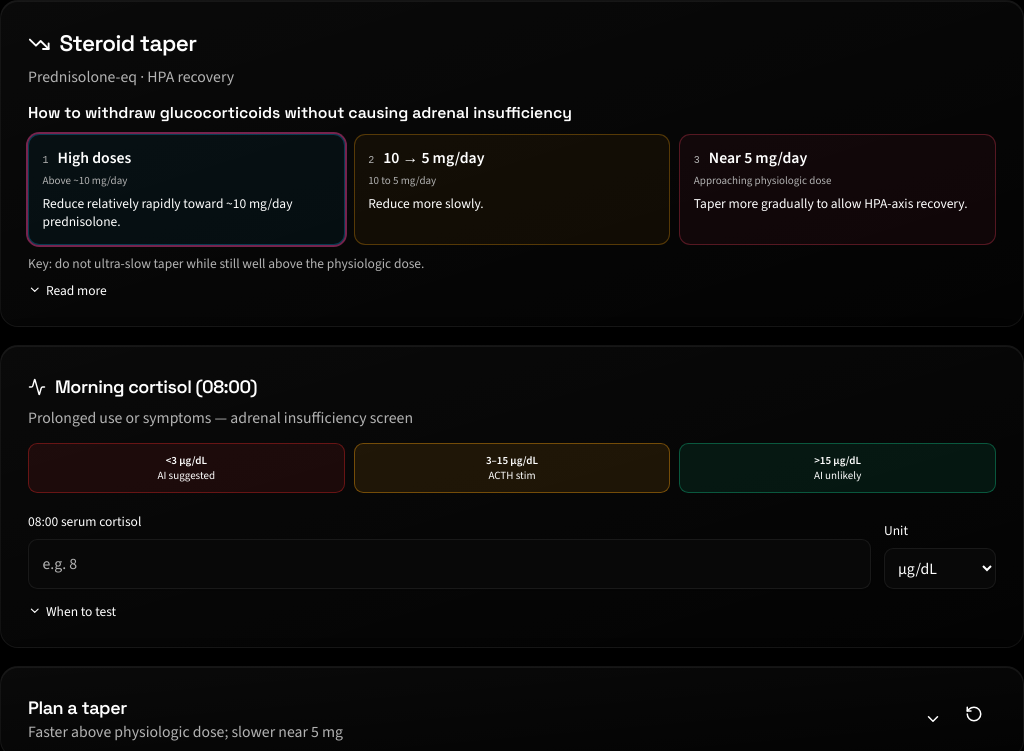
Test: Steroid taper UI (progressive disclosure) › plans a 40 mg prednisolone taper with high-dose then slower steps
Click the button "Plan a taper Faster above physiologic dose; slower near 5 mg". click: (77, 708)
box: [28,694,942,744]
(page scrolled)
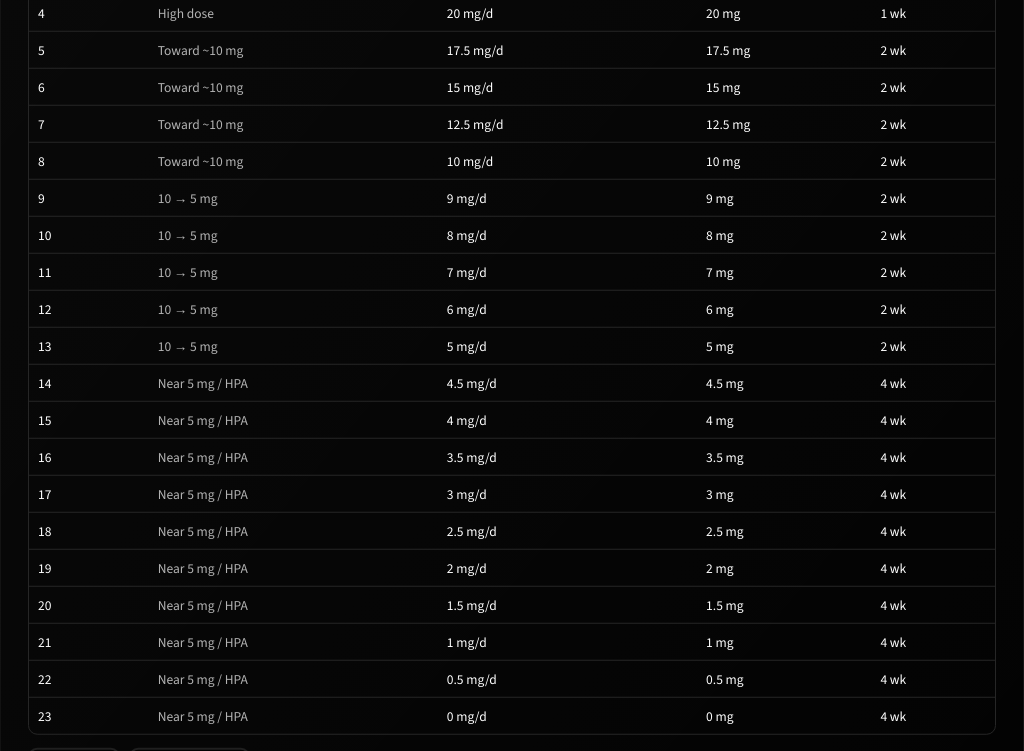
Expected: the 1st text "10 → 5 mg" is shown, [149,179,438,216]
Expected: the text "Near 5 mg / HPA" next to "14" is shown, [158,373,248,391]
